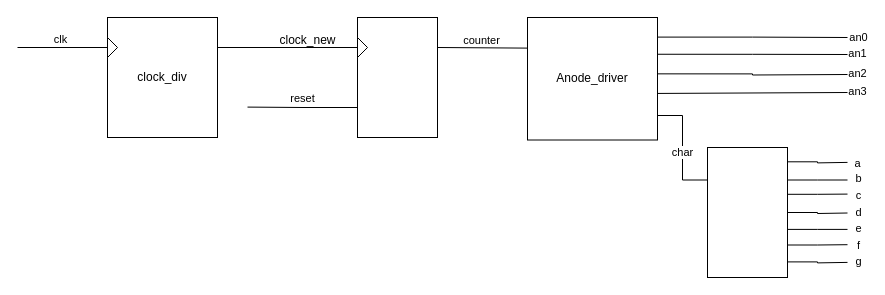
The diagram is 885 pixels wide and 295 high, and some of its shapes have lost their labels. Each missing label, with the box of its shape:
4_bit_counter: (356, 16, 438, 138)
Led_decode: (706, 146, 788, 278)
